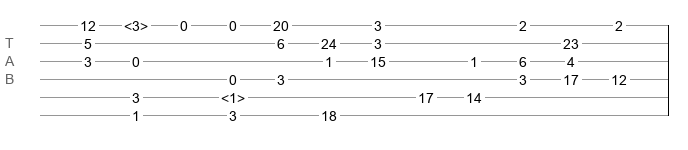0: (132, 54, 140, 64), (180, 18, 188, 28), (229, 72, 237, 82), (229, 18, 237, 28)
1: (132, 108, 140, 118), (325, 54, 333, 64), (470, 54, 478, 64)
12: (80, 18, 96, 28), (611, 72, 627, 82)
14: (466, 90, 482, 100)
15: (370, 54, 386, 64)
17: (418, 90, 434, 100), (563, 72, 579, 82)
18: (321, 108, 337, 118)
2: (519, 18, 527, 28), (615, 18, 623, 28)
20: (273, 18, 289, 28)
23: (563, 36, 579, 46)
24: (321, 36, 337, 46)
3: (84, 54, 92, 64), (132, 90, 140, 100), (229, 108, 237, 118), (277, 72, 285, 82), (374, 18, 382, 28), (374, 36, 382, 46), (519, 72, 527, 82)
4: (567, 54, 575, 64)
5: (84, 36, 92, 46)
6: (277, 36, 285, 46), (519, 54, 527, 64)
harmonic: (124, 18, 148, 28), (221, 90, 245, 100)
